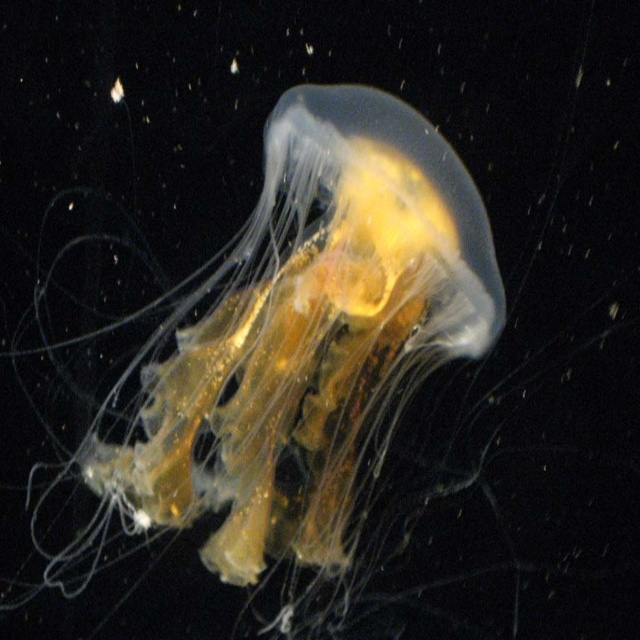Jellyfish: (0, 80, 507, 637)
